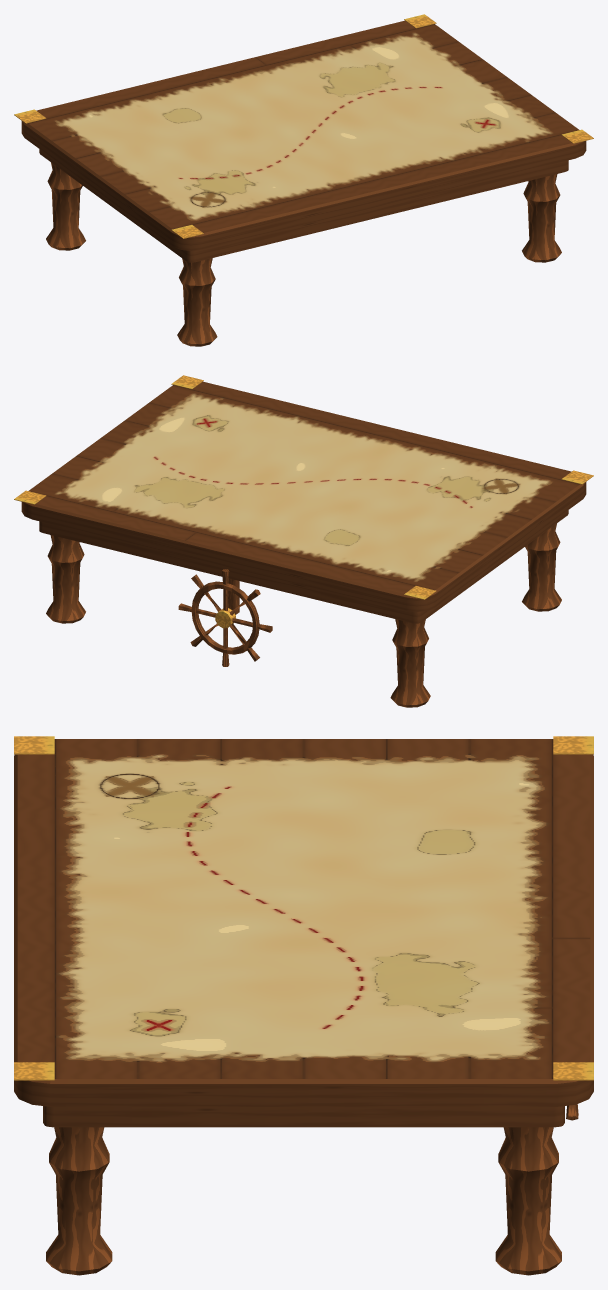
The model's file is Table_Pirate.fbx.
3 views of the same model, one above another, from view 1: azimuth 30°, elevation 25°; view 2: azimuth 150°, elevation 25°; view 3: azimuth 270°, elevation 25° (orthographic). The views are drawn at different scales.
Parts seen in each view (by area): view 1: Table_Pirate; view 2: Table_Pirate; view 3: Table_Pirate.
Part boxes in pixels (x1,y1,x2,y2): Table_Pirate: (14,14,593,346); Table_Pirate: (14,375,593,707); Table_Pirate: (14,736,593,1275).
Bounding box in the file's own units: 5.6 × 1.61 × 4.
1 material, 1 textured.
